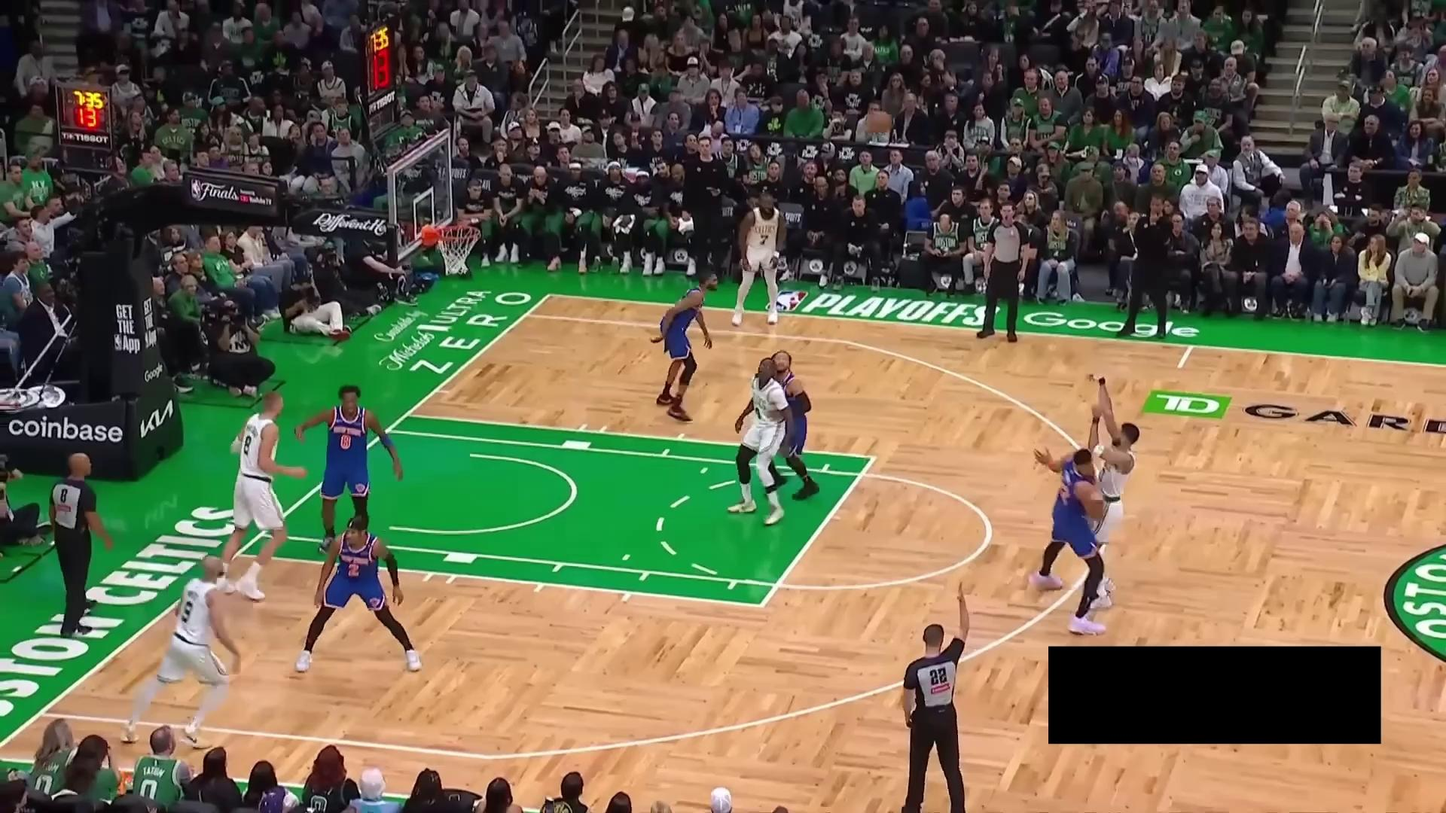ball: (865, 109, 893, 132)
number: (181, 600, 193, 623), (338, 433, 352, 451), (348, 562, 361, 578), (243, 434, 252, 455), (758, 233, 770, 247)
player: (118, 553, 243, 749), (293, 513, 423, 674), (217, 388, 309, 601), (294, 383, 404, 556), (1029, 418, 1112, 636), (1082, 373, 1142, 614), (726, 355, 793, 527), (649, 268, 716, 424), (764, 349, 820, 502), (731, 187, 787, 327)
referee: (900, 579, 972, 813), (48, 452, 114, 638), (975, 200, 1032, 344)
rim: (436, 223, 482, 242)
